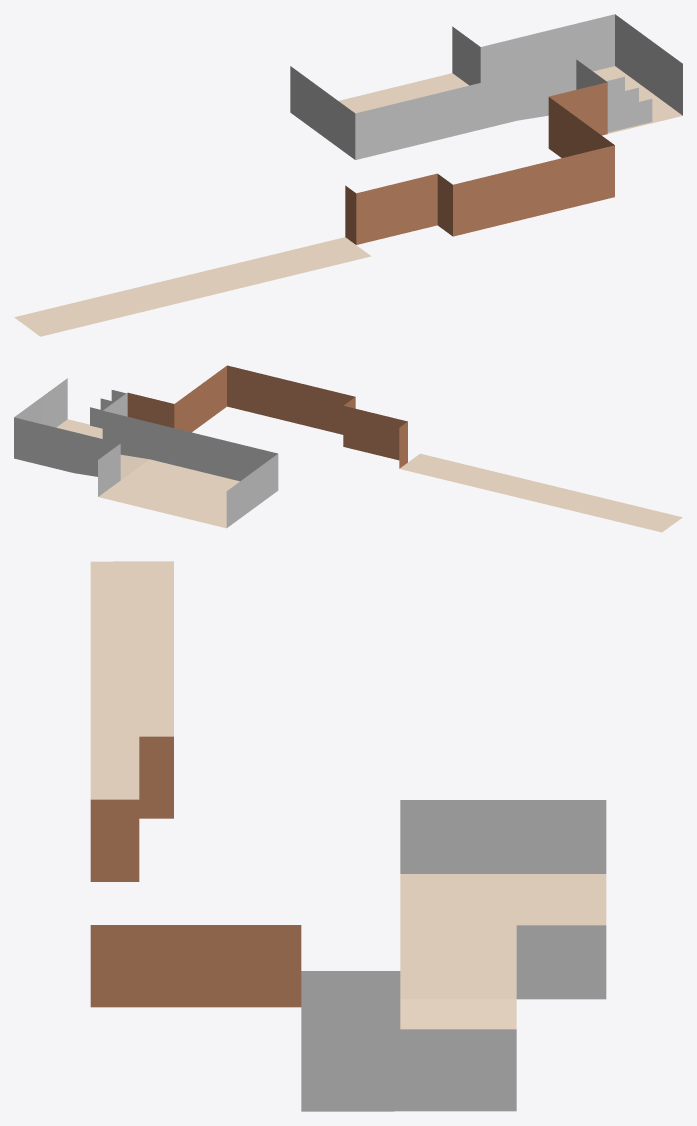
The model's file is ColliderCollegi.fbx.
3 renders of one model, top to bottom at view 1: azimuth 30°, elevation 25°; view 2: azimuth 150°, elevation 25°; view 3: azimuth 270°, elevation 25°, orthographic. The views are drawn at different scales.
Parts seen in each view (by area): view 1: CollidersSotano, Collider out; view 2: CollidersSotano, Collider out; view 3: CollidersSotano, Collider out.
Boxes of the visible parts, x1,y1,x2,y2 form: CollidersSotano: (290,14,682,159); Collider out: (14,96,614,336); CollidersSotano: (14,378,278,528); Collider out: (173,365,682,532); CollidersSotano: (301,800,606,1111); Collider out: (90,561,301,1007).
Size of the model in its own units: 4091 by 287 by 1625.
